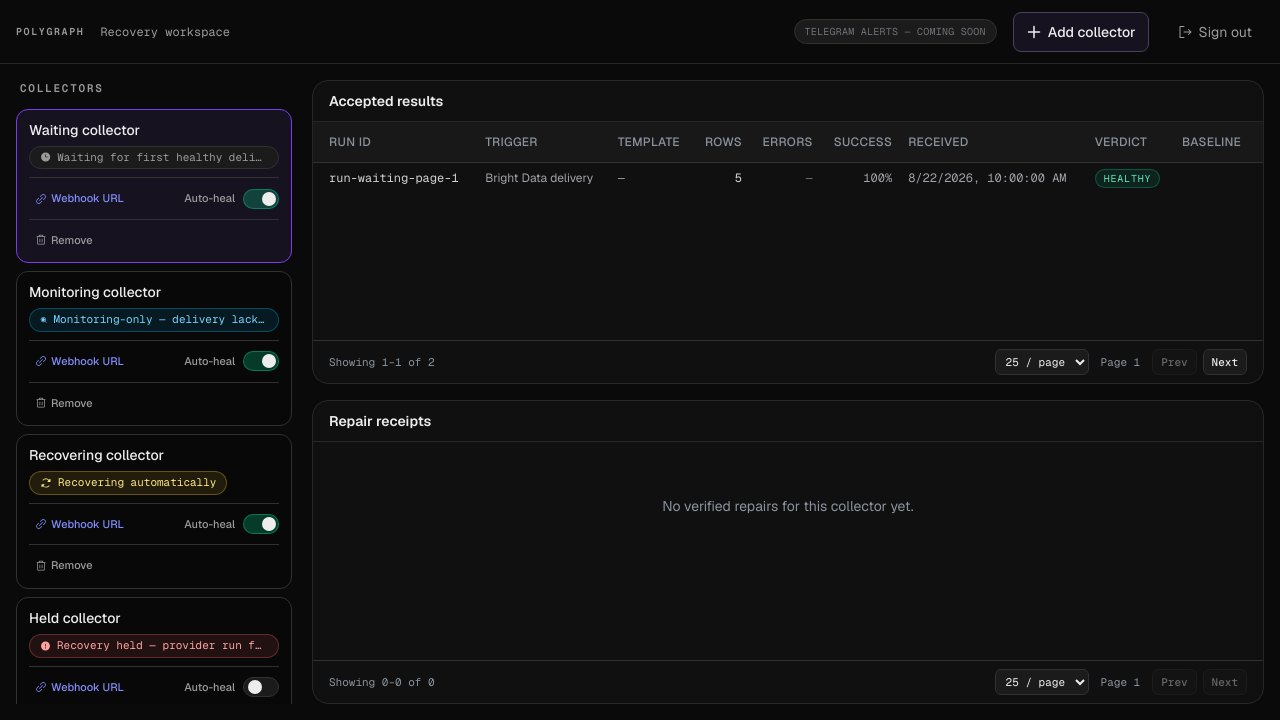
Scenario: RecoveryWorkspace — pagination › resets to page 1 when a different collector is selected
Expected: the text "run-waiting-page-1" is shown, [313, 162, 477, 194]
Click the button "Next" below "8/22/2026, 10:00:00 AM". click: (1225, 362)
box: [1203, 348, 1247, 375]
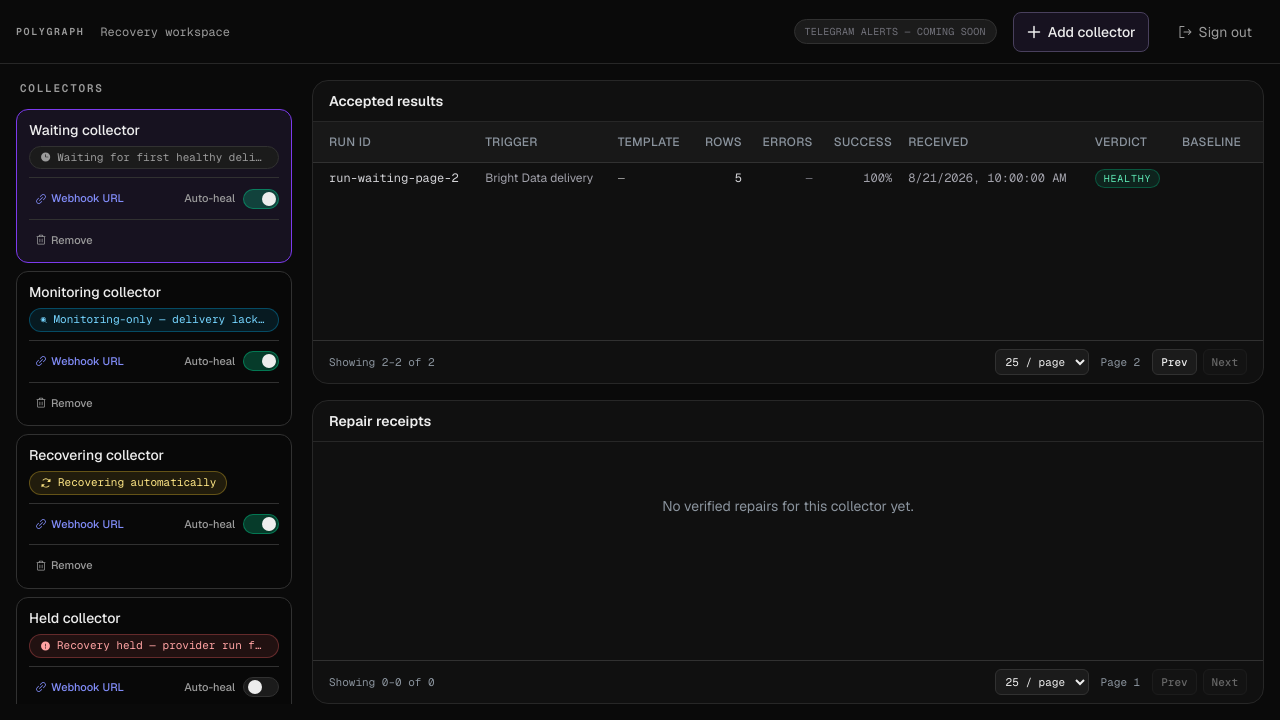
Expected: the text "run-waiting-page-2" is shown, [313, 162, 477, 194]
Click the button "Monitoring collector". click: (154, 307)
box: [29, 282, 279, 332]
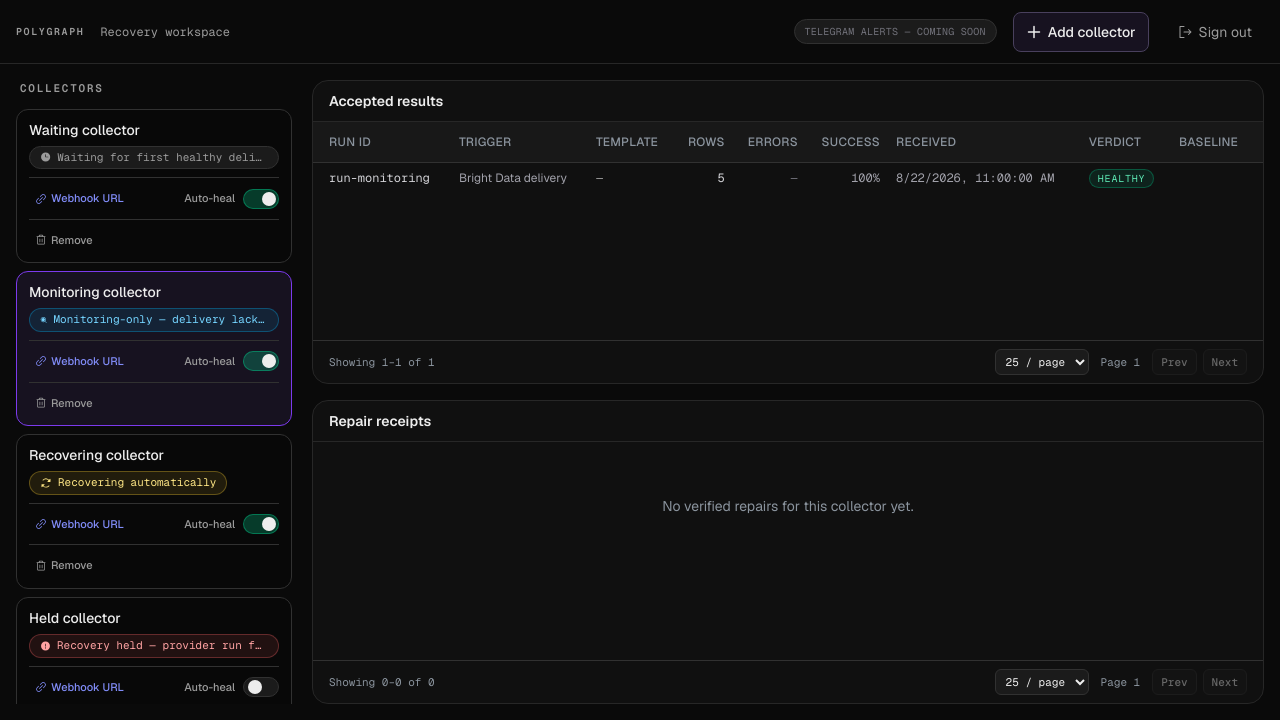
Expected: the text "run-monitoring" is shown, [313, 162, 451, 194]
Expected: the text "Showing 1–1 of 1" is shown, [329, 354, 435, 370]
Click the button "Waiting collector Waiting for first healthy delivery". click: (154, 144)
box: [29, 120, 279, 169]
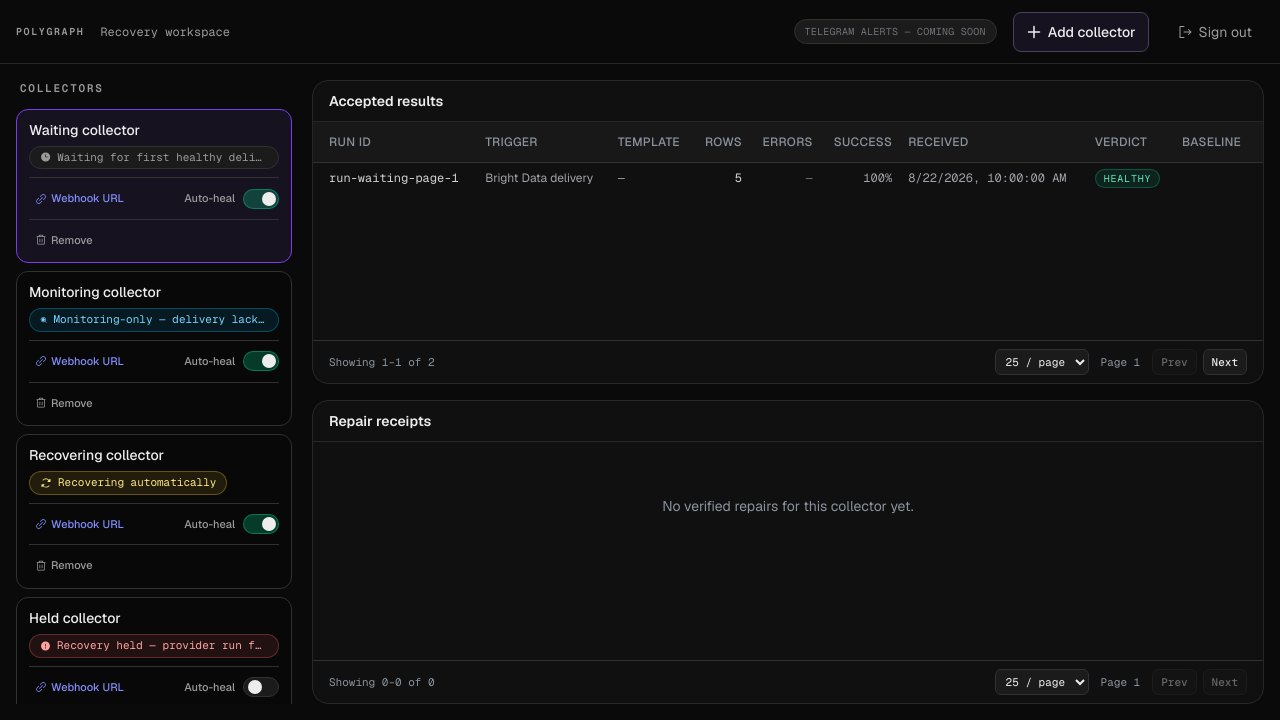
Expected: the text "run-waiting-page-2" is not shown
Expected: the text "run-waiting-page-1" is shown, [313, 162, 477, 194]
